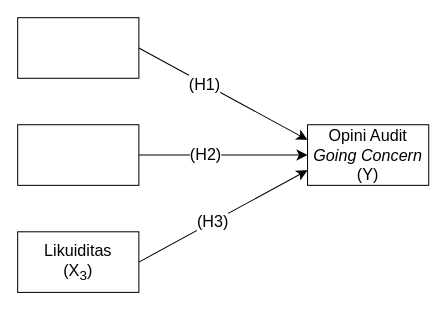
The diagram is 446 pixels wide and 310 high, and some of its shapes have lost their labels. Here are the shapes that lost their labels. From the top down, the centre of each, then its label:
point (78, 47): Profitabilitas (X 1 )
point (78, 154): Solvabilitas (X 2 )
